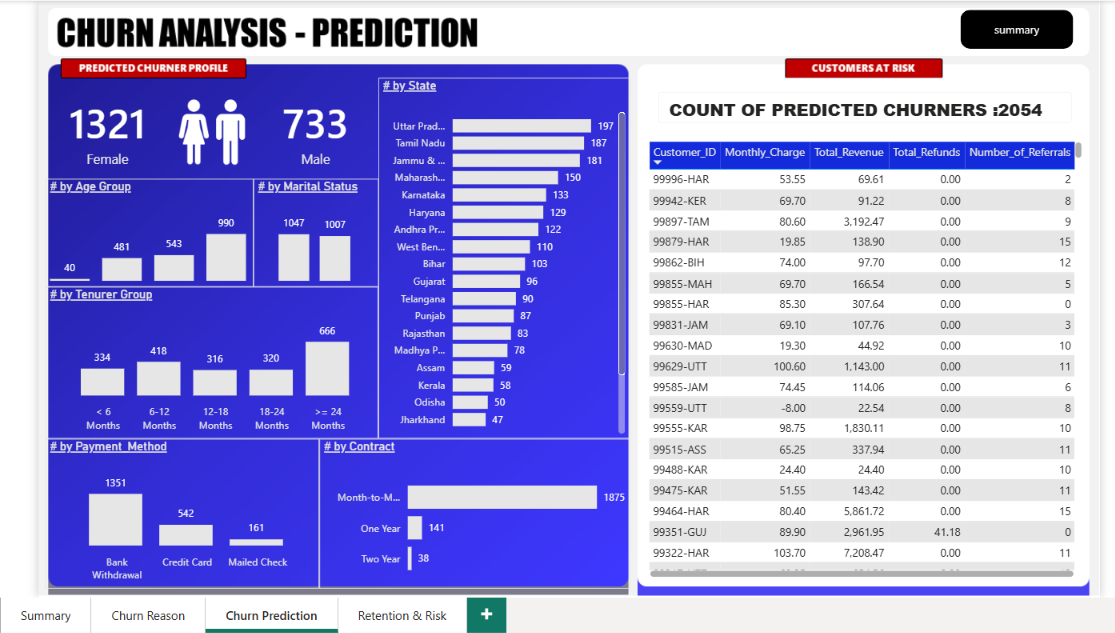

This screenshot's page, from the dashboard's own definition file:
{"tool":"powerbi","page":{"name":"Churn Prediction","canvas":[1280,720],"ordinal":2},"visuals":[{"type":"tableEx","fields":{"Values":["Predicted_Churn_Customers.Customer_ID","Predicted_Churn_Customers.Monthly_Charge","Predicted_Churn_Customers.Total_Revenue","Predicted_Churn_Customers.Total_Refunds","Predicted_Churn_Customers.Number_of_Referrals"]},"box":[731.1,165.3,533.2,535.7],"z":0},{"type":"cardVisual","fields":{"Data":["Tbl_Measures.Title Predicted Churner"]},"box":[731.1,92.9,533.2,72.4],"z":1000},{"type":"cardVisual","fields":{"Data":["Tbl_Measures.Count Predicted Churner"]},"box":[8.4,101.3,150.8,113.4],"z":2000},{"type":"cardVisual","fields":{"Data":["Tbl_Measures.Count Predicted Churner"]},"box":[259.4,101.3,150.8,113.4],"z":3000},{"type":"clusteredColumnChart","fields":{"Category":["Mapping_AgeGrp.Age Group"],"Y":["CountNonNull(Predicted_Churn_Customers.Customer_ID)"]},"box":[8.4,214.7,250.9,130.3],"z":4000},{"type":"clusteredColumnChart","fields":{"Category":["Predicted_Churn_Customers.Married"],"Y":["CountNonNull(Predicted_Churn_Customers.Customer_ID)"]},"box":[259.4,214.7,150.8,130.3],"z":5000},{"type":"clusteredColumnChart","fields":{"Y":["CountNonNull(Predicted_Churn_Customers.Customer_ID)"],"Category":["Mapping_TenureGrp.Tenurer Group"]},"box":[8.4,345,401.7,183.4],"z":6000},{"type":"clusteredColumnChart","fields":{"Y":["CountNonNull(Predicted_Churn_Customers.Customer_ID)"],"Category":["Predicted_Churn_Customers.Payment_Method"]},"box":[8.4,528.4,330.6,181],"z":7000},{"type":"clusteredBarChart","fields":{"Category":["Predicted_Churn_Customers.Contract"],"Y":["CountNonNull(Predicted_Churn_Customers.Customer_ID)"]},"box":[339,528.4,375.2,181],"z":8000},{"type":"clusteredBarChart","fields":{"Category":["Predicted_Churn_Customers.State"],"Y":["CountNonNull(Predicted_Churn_Customers.Customer_ID)"]},"box":[410.2,92.9,304,435.5],"z":9000},{"type":"image","box":[159.3,101.3,100.1,113.4],"z":10000},{"type":"shape","box":[1112.3,10.9,136.3,47.1],"z":11000}]}

Visuals, with their boxes on the page's 1280x720 design canvas (x1, y1, x2, y2). These are canvas units, not pixel positions in the 1115x633 screenshot, which may show the page scaled, cropped or inside an application window:
tableEx - Predicted_Churn_Customers.Customer_ID x Predicted_Churn_Customers.Monthly_Charge: [731,165,1264,701]
cardVisual - Tbl_Measures.Title Predicted Churner: [731,93,1264,165]
cardVisual - Tbl_Measures.Count Predicted Churner: [8,101,159,215]
cardVisual - Tbl_Measures.Count Predicted Churner: [259,101,410,215]
clusteredColumnChart - Mapping_AgeGrp.Age Group x CountNonNull(Predicted_Churn_Customers.Customer_ID): [8,215,259,345]
clusteredColumnChart - Predicted_Churn_Customers.Married x CountNonNull(Predicted_Churn_Customers.Customer_ID): [259,215,410,345]
clusteredColumnChart - CountNonNull(Predicted_Churn_Customers.Customer_ID) x Mapping_TenureGrp.Tenurer Group: [8,345,410,528]
clusteredColumnChart - CountNonNull(Predicted_Churn_Customers.Customer_ID) x Predicted_Churn_Customers.Payment_Method: [8,528,339,709]
clusteredBarChart - Predicted_Churn_Customers.Contract x CountNonNull(Predicted_Churn_Customers.Customer_ID): [339,528,714,709]
clusteredBarChart - Predicted_Churn_Customers.State x CountNonNull(Predicted_Churn_Customers.Customer_ID): [410,93,714,528]
image: [159,101,259,215]
shape: [1112,11,1249,58]
